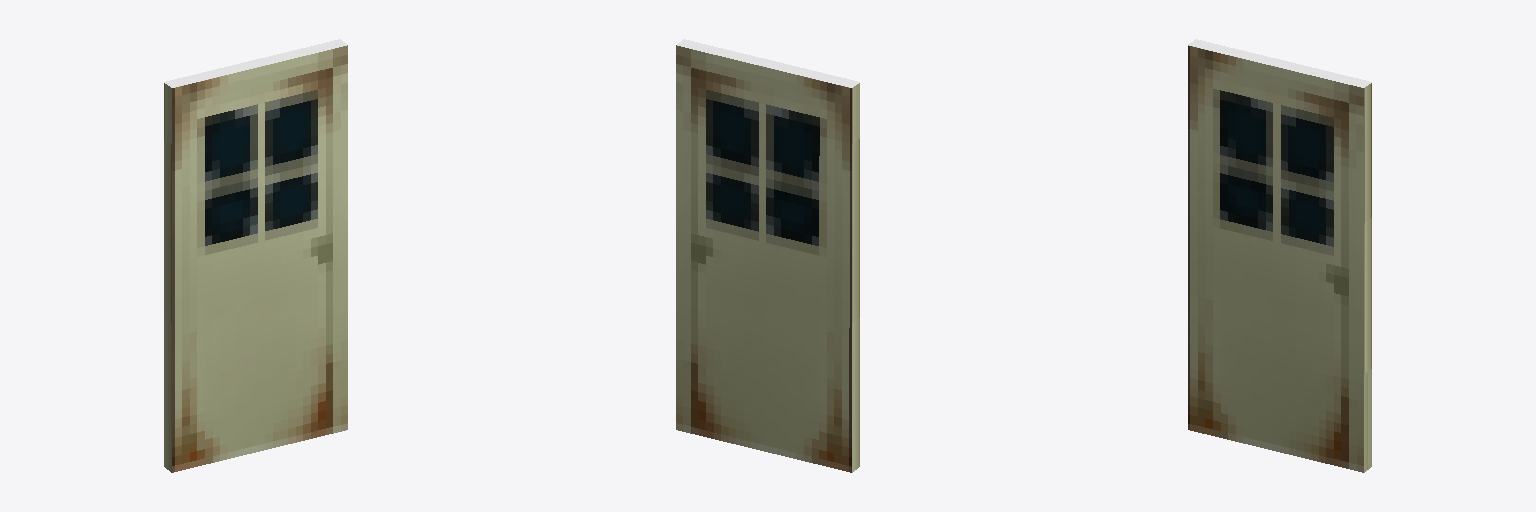
The picture shows the model from 3 angles: view 1: azimuth 30°, elevation 25°; view 2: azimuth 150°, elevation 25°; view 3: azimuth 330°, elevation 25°; orthographic projection.
Parts seen in each view (by area): view 1: Cube; view 2: Cube; view 3: Cube.
Part boxes in pixels (bbox=[...]): Cube: bbox=[164, 39, 347, 472]; Cube: bbox=[676, 39, 859, 472]; Cube: bbox=[1188, 39, 1371, 472].
Bounding box in the file's own units: 2.4 × 5 × 0.1984.
Materials: 1 (1 with a texture image).